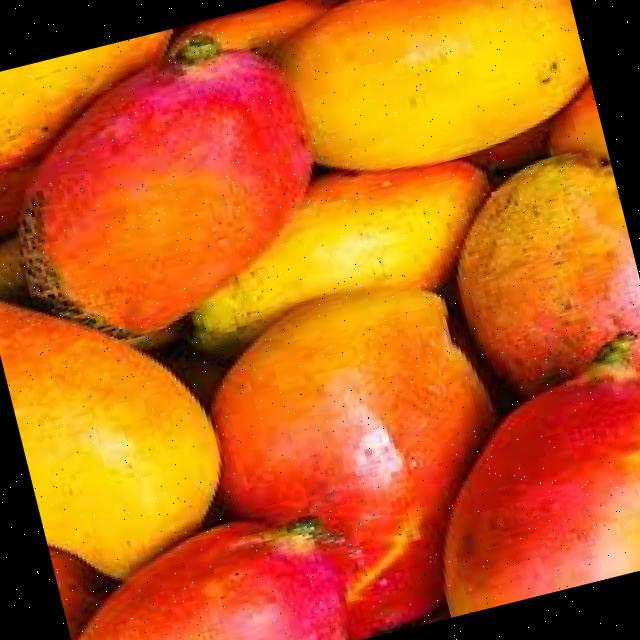mango: (14, 32, 313, 338)
